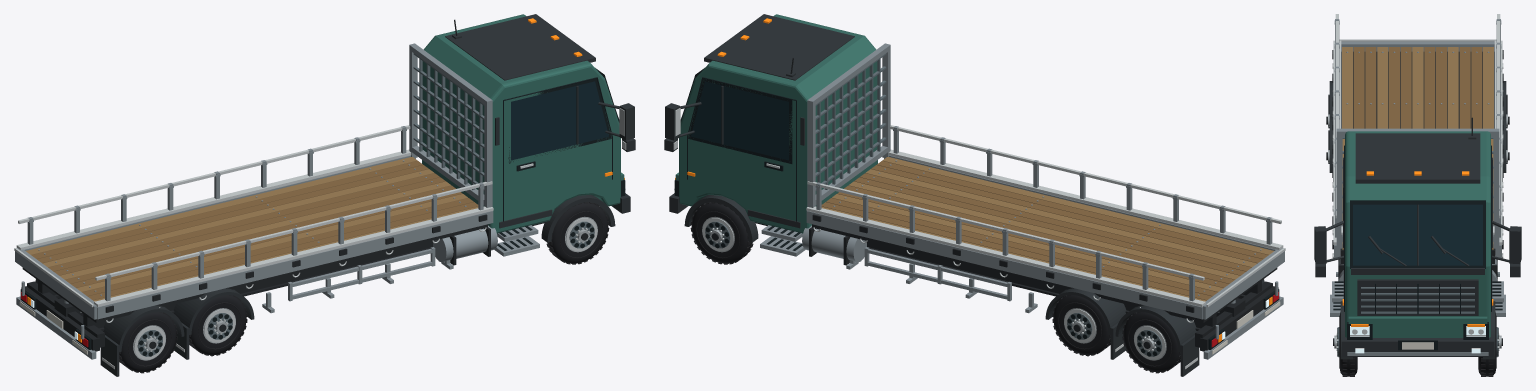
File: flatbed-truck.glb
The picture shows the model from 3 angles, left to right: view 1: azimuth 30°, elevation 25°; view 2: azimuth 150°, elevation 25°; view 3: azimuth 270°, elevation 25°; orthographic projection. The views are drawn at different scales.
Parts seen in each view (by area): view 1: Galvanised steel, Cab paint, Platform timber, Graphite trim, Polished metal, Platform timber variation, Black chassis steel, Cargo understructure, Smoked cab glass, Tyre rubber, Panel gaps, Tyre tread (+1 smaller); view 2: Galvanised steel, Cab paint, Platform timber, Graphite trim, Polished metal, Platform timber variation, Black chassis steel, Cargo understructure, Smoked cab glass, Tyre rubber, Panel gaps, Tyre tread (+1 smaller); view 3: Graphite trim, Cab paint, Smoked cab glass, Platform timber, Galvanised steel, Platform timber variation, Polished metal, Panel gaps, Black chassis steel, Cargo understructure, Tyre rubber, Tyre tread (+4 smaller).
Boxes of the visible parts, <box> form: Galvanised steel: <box>15,43,539,359</box>; Cab paint: <box>422,14,624,233</box>; Platform timber: <box>31,161,478,300</box>; Graphite trim: <box>35,14,635,376</box>; Polished metal: <box>14,108,626,359</box>; Platform timber variation: <box>26,157,478,301</box>; Black chassis steel: <box>21,19,599,351</box>; Cargo understructure: <box>137,53,594,356</box>; Smoked cab glass: <box>511,81,619,160</box>; Tyre rubber: <box>57,202,608,372</box>; Panel gaps: <box>20,68,625,356</box>; Tyre tread: <box>119,202,609,373</box>; Galvanised steel: <box>760,43,1284,359</box>; Cab paint: <box>675,14,877,233</box>; Platform timber: <box>821,161,1268,300</box>; Graphite trim: <box>664,14,1264,376</box>; Polished metal: <box>673,108,1285,359</box>; Platform timber variation: <box>821,157,1273,301</box>; Black chassis steel: <box>700,57,1278,351</box>; Cargo understructure: <box>705,53,1162,356</box>; Smoked cab glass: <box>680,81,788,160</box>; Tyre rubber: <box>691,202,1242,372</box>; Panel gaps: <box>674,68,1279,356</box>; Tyre tread: <box>690,202,1180,373</box>; Graphite trim: <box>1314,81,1521,359</box>; Cab paint: <box>1345,131,1490,337</box>; Smoked cab glass: <box>1353,204,1482,265</box>; Platform timber: <box>1353,47,1482,128</box>; Galvanised steel: <box>1330,19,1505,355</box>; Platform timber variation: <box>1342,47,1493,249</box>; Polished metal: <box>1332,14,1503,350</box>; Panel gaps: <box>1333,145,1502,356</box>; Black chassis steel: <box>1326,50,1509,345</box>; Cargo understructure: <box>1338,137,1497,357</box>; Tyre rubber: <box>1339,312,1496,376</box>; Tyre tread: <box>1333,178,1502,376</box>.
Bounding box in the file's own units: 10.04 × 3.77 × 3.17.
